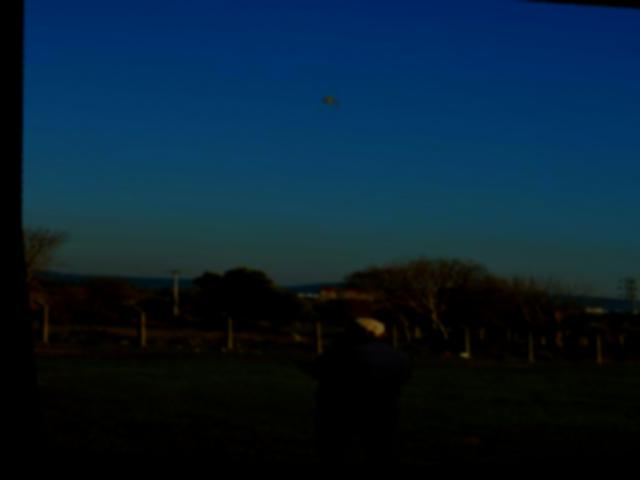iha: (321, 99, 337, 108)
